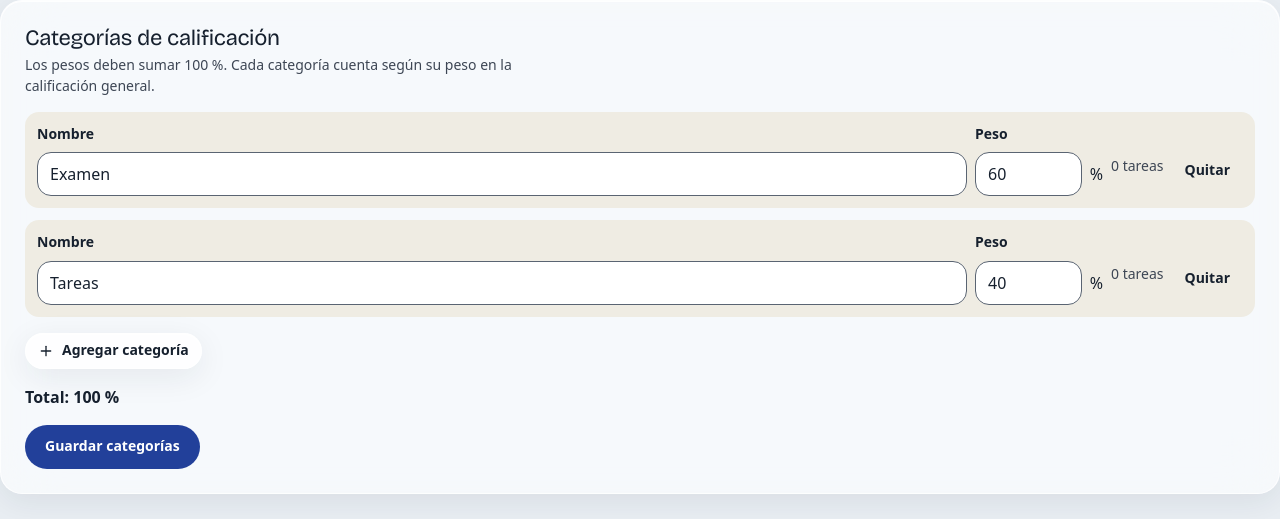
Test case: CategoriasView (PR-1E03) › PR-1E03 · un 409 CATEGORIA_CON_TAREAS avisa con el mensaje del servidor y el editor parte de la lista que el servidor acaba de devolver
Expected: the 2nd field showing "Tareas" is shown, [37,261,967,305]
Click the 2nd button "Quitar" at x=1207, y=278, box [1172,260,1243,296]
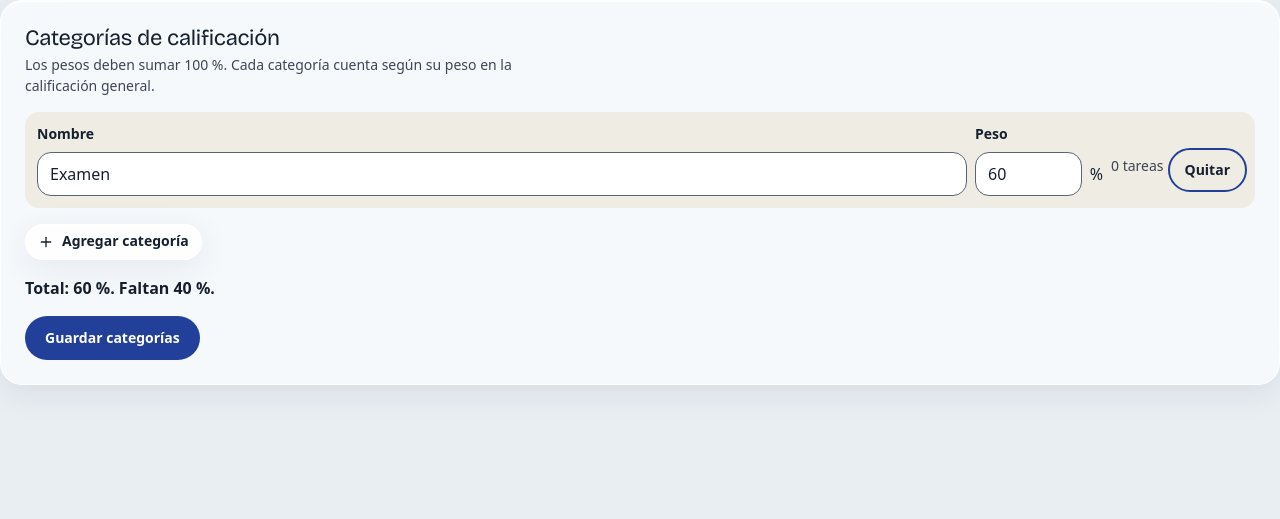
Replace the text in the field labelled "Peso" with "100" at x=1028, y=174, box [975,152,1082,196]
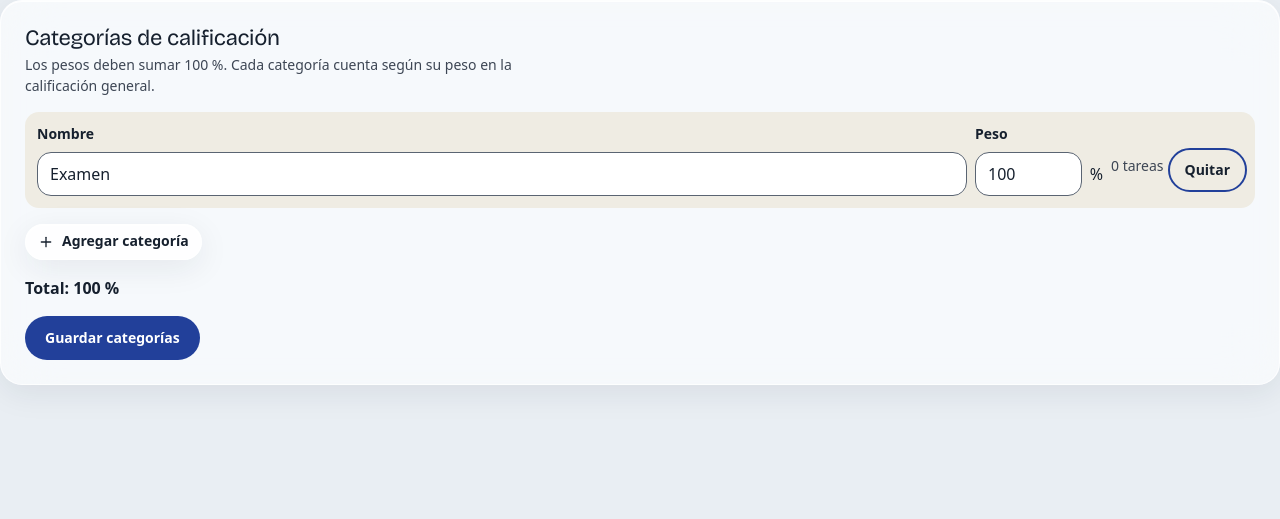
Click the button "Guardar categorías" at x=112, y=338, box [25,316,200,360]
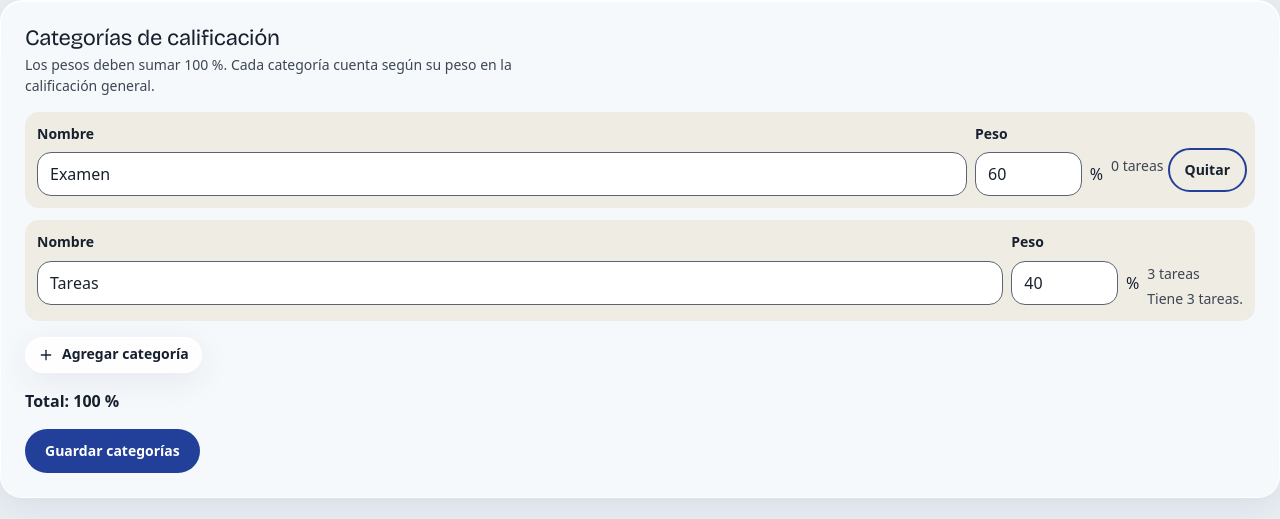
Expected: the message reads "Total: 100 %", [25,390,119,412]
Expected: the text "Tiene 3 tareas." is shown, [1147,289,1243,309]
